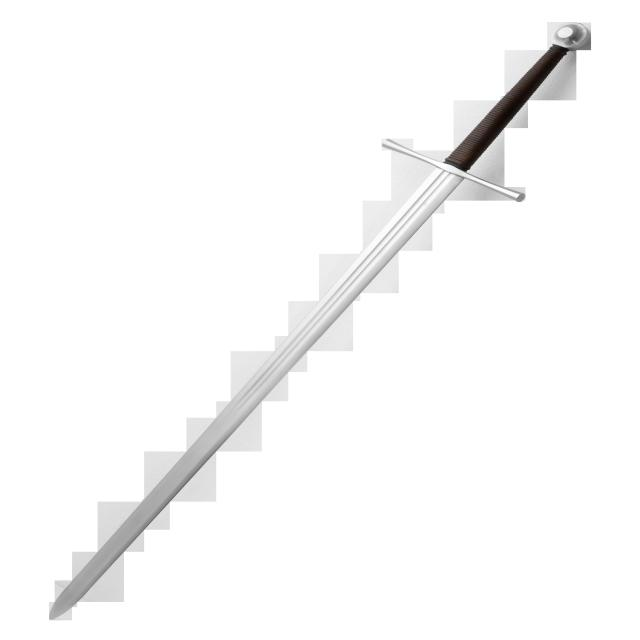weapon: (12, 20, 598, 630)
